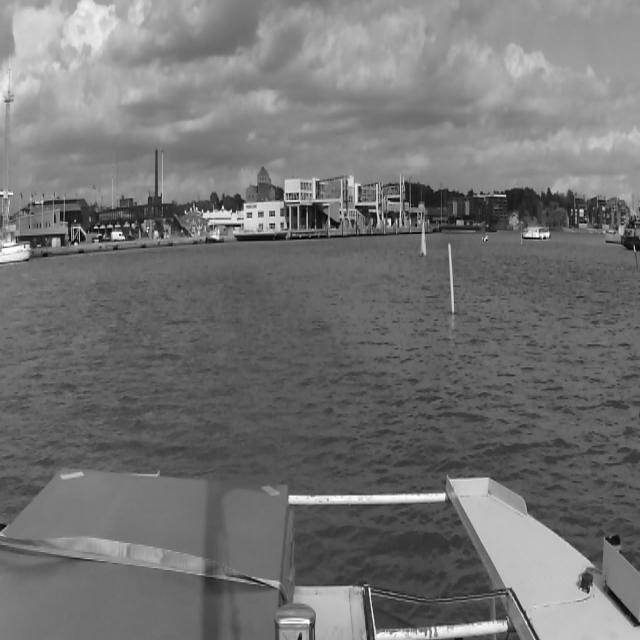buoy: (444, 243, 458, 317), (418, 216, 428, 260), (520, 233, 524, 246)
ship: (522, 225, 552, 240), (205, 228, 225, 245), (481, 233, 489, 243)
